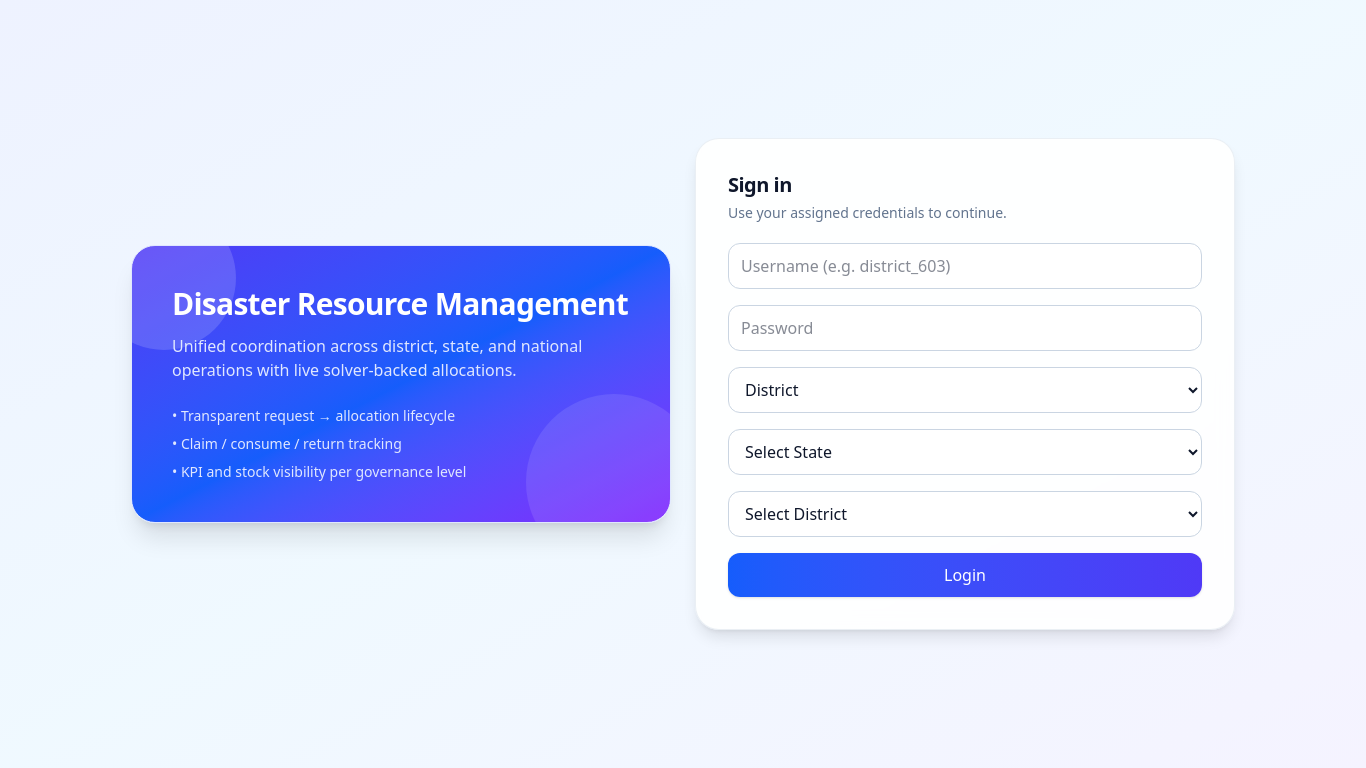
Test: Navigation and role guards › navigates to district dashboard after login
The width and height of the screenshot is (1366, 768).
Type "district_user" into the field with placeholder "Username (e.g. district_603)" at (965, 266), box [728, 243, 1202, 289]
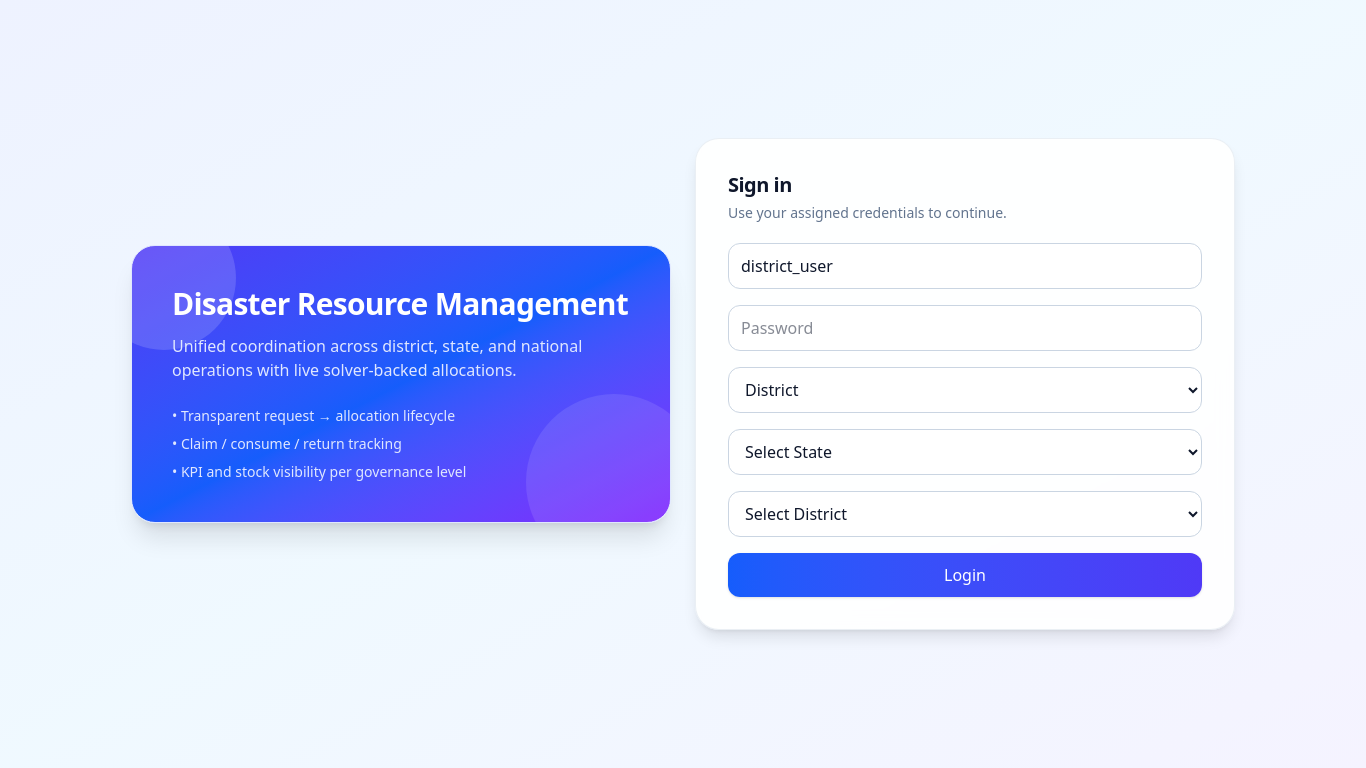
Type "pw" into the password field with placeholder "Password" at (965, 328), box [728, 305, 1202, 351]
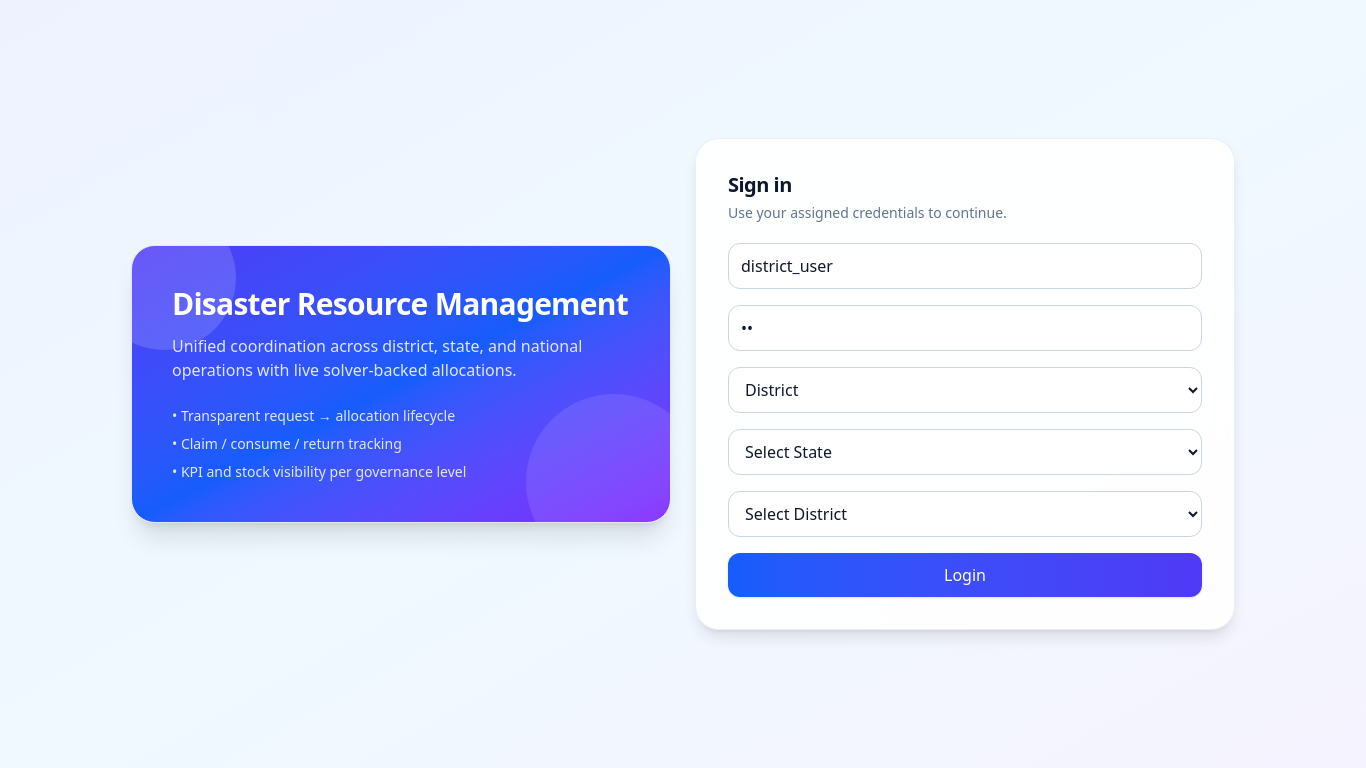
Click the button "Login" at (965, 575), box [728, 553, 1202, 597]
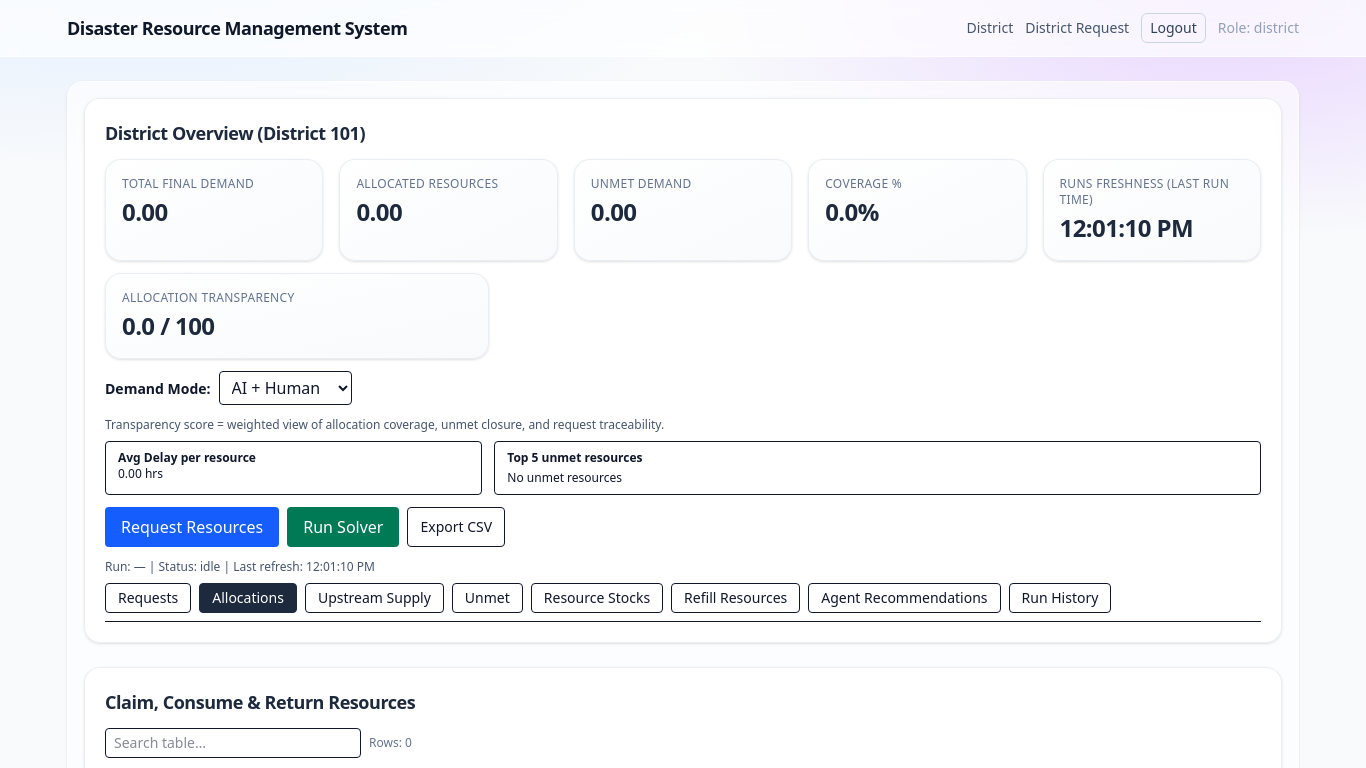
Expected: the heading "District Overview (District 101)" is shown, [105, 121, 365, 145]
